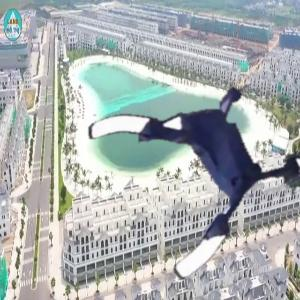drone: (96, 60, 294, 258)
